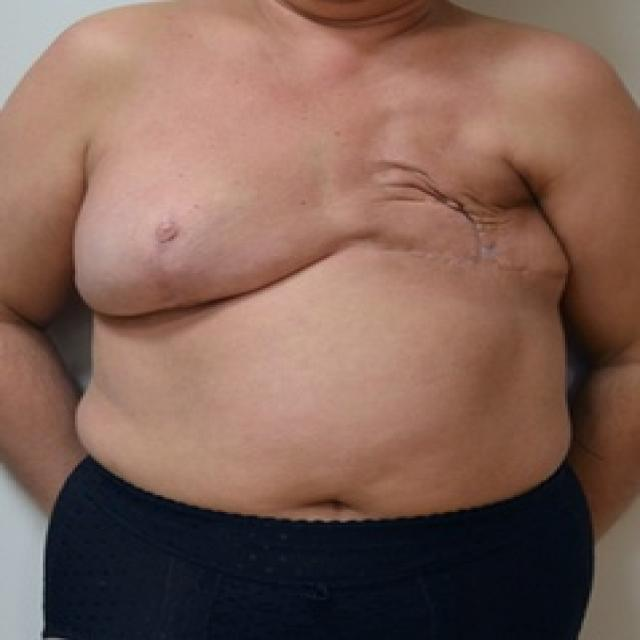Seno herido: (333, 115, 582, 338)
Seno ileso: (62, 115, 327, 338)
